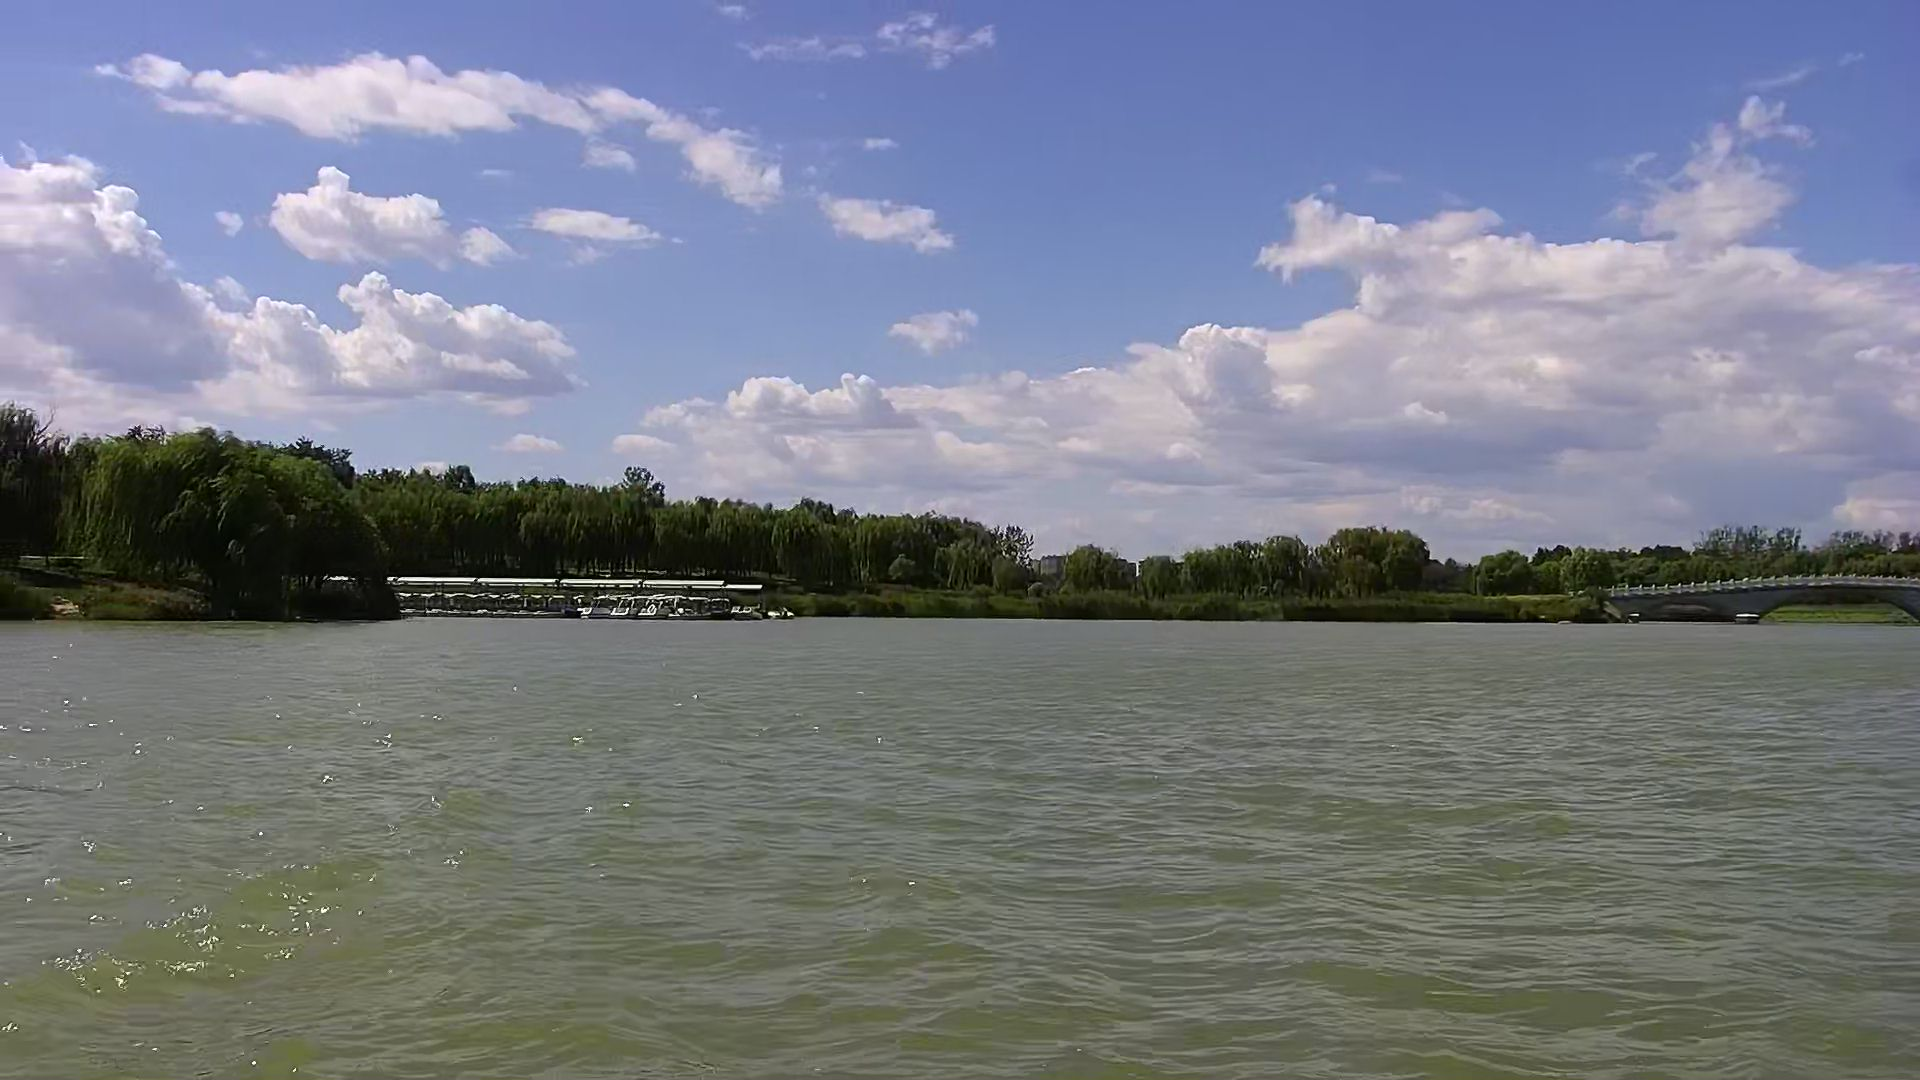bridge: (1609, 572, 1920, 621)
harbor: (381, 570, 793, 629)
